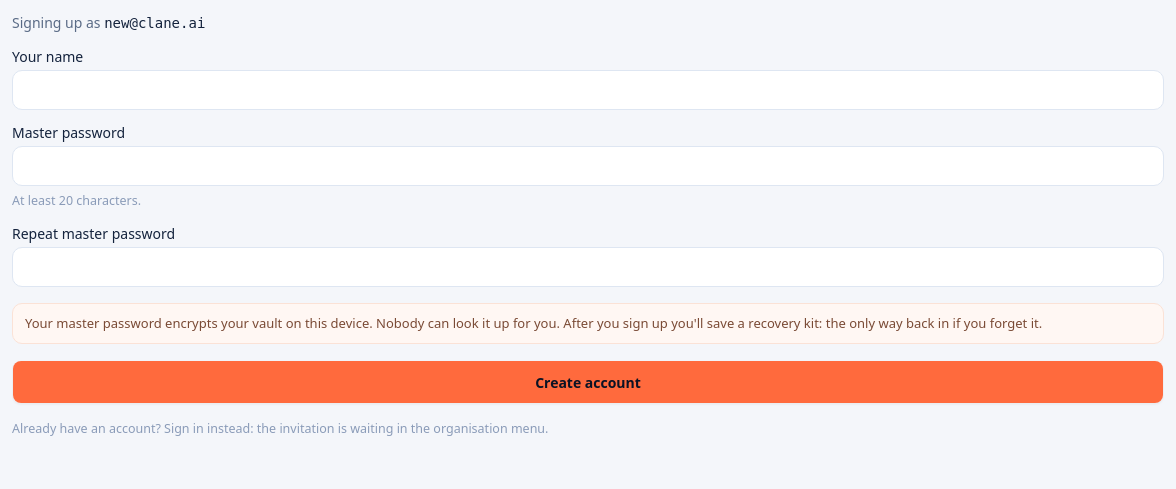
Test: master password rule › the sign-up form shows and enforces the inviting org's rule
Expected: the text "At least 20 characters." is shown, [12,192,141,209]
In the field labelled "Your name": (588, 90) [12,70,1164,110], type "New"
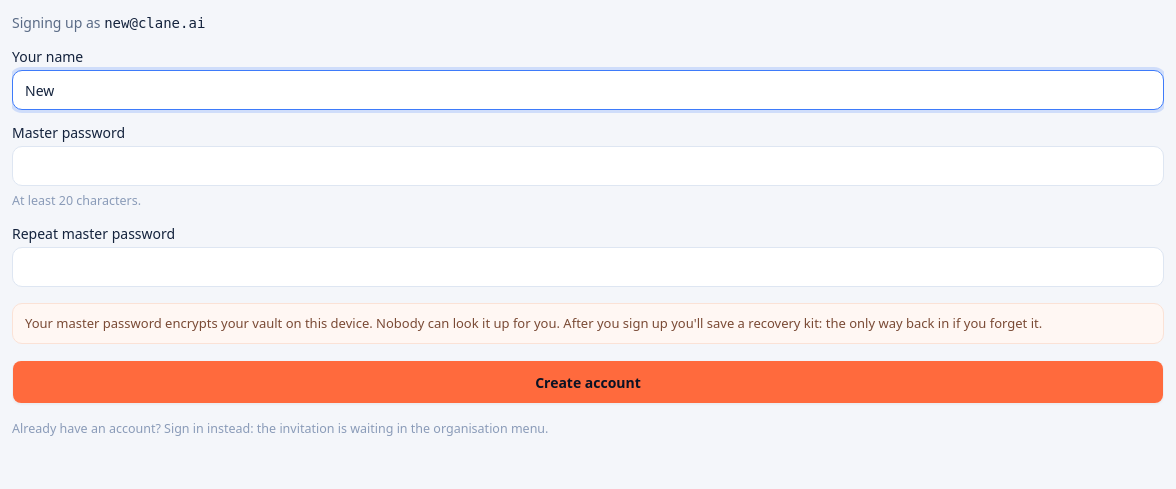
In the password field labelled "Master password": (588, 166) [12,146,1164,186], type "fifteen chars!!"
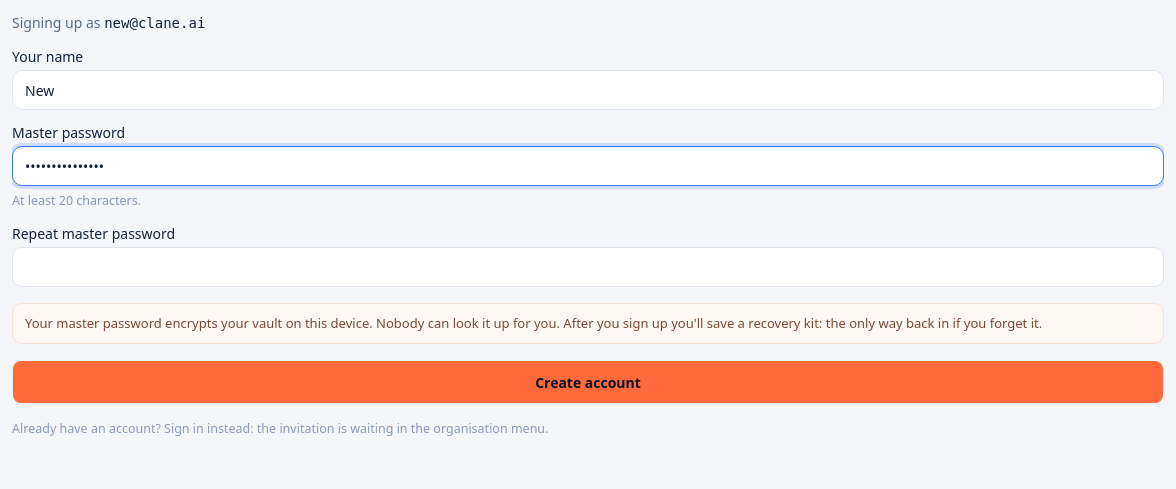
In the password field labelled "Repeat master password": (588, 267) [12,247,1164,287], type "fifteen chars!!"
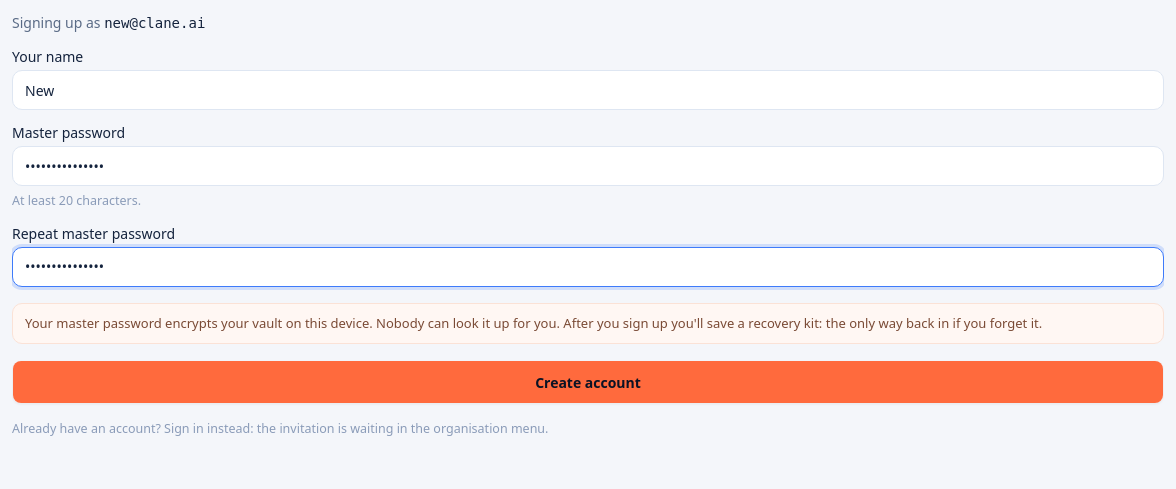
Click the button "Create account": (588, 382) [12,360,1164,404]
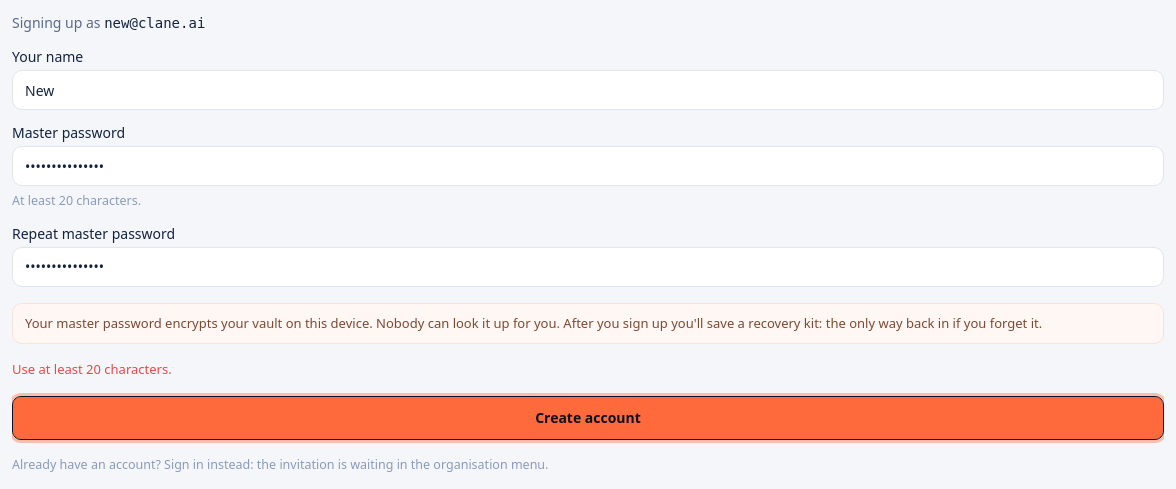
Expected: the message reads "Use at least 20 characters.", [12,360,172,378]
